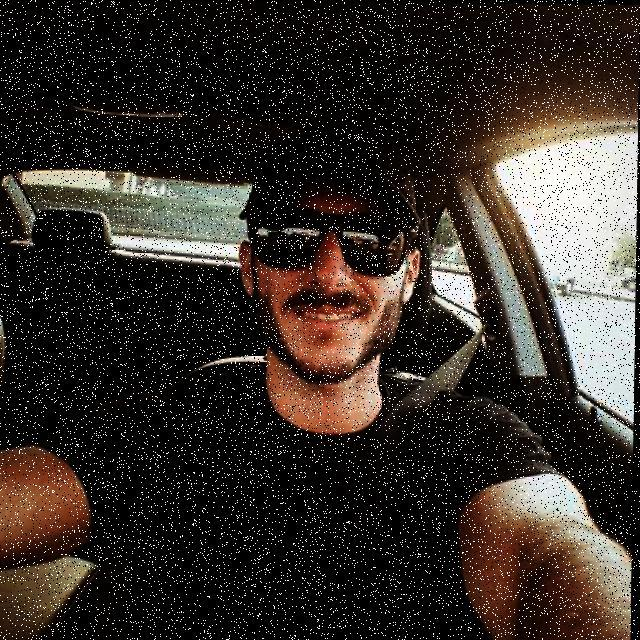seatbelt: (228, 375, 460, 640)
